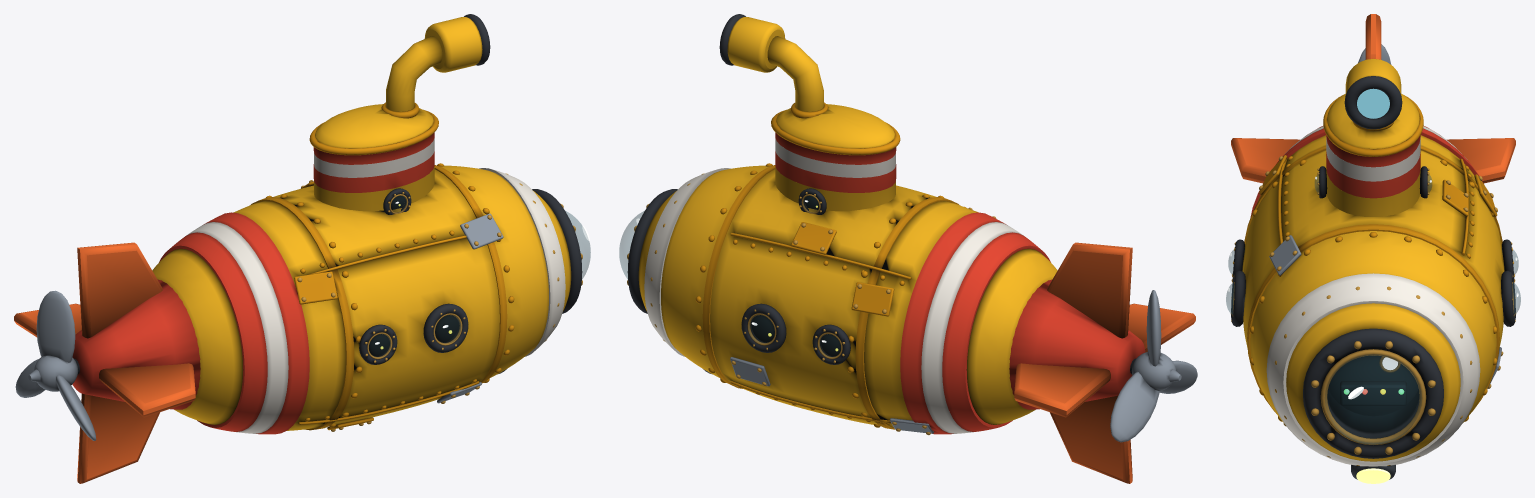
The model's file is player_hull.glb.
3 renders of one model, left to right at view 1: azimuth 30°, elevation 25°; view 2: azimuth 150°, elevation 25°; view 3: azimuth 270°, elevation 25°, orthographic. The views are drawn at different scales.
Visible parts, largest first — view 1: hull_body, propeller; view 2: hull_body, propeller; view 3: hull_body.
Part boxes in pixels (<box>): hull_body: <box>14,14,590,483</box>; propeller: <box>15,290,96,440</box>; hull_body: <box>619,14,1195,483</box>; propeller: <box>1110,290,1197,442</box>; hull_body: <box>1226,14,1520,483</box>.
Bounding box in the file's own units: 5.35 × 3.41 × 2.24.
